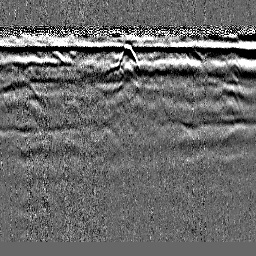cavity: (114, 40, 141, 73)
